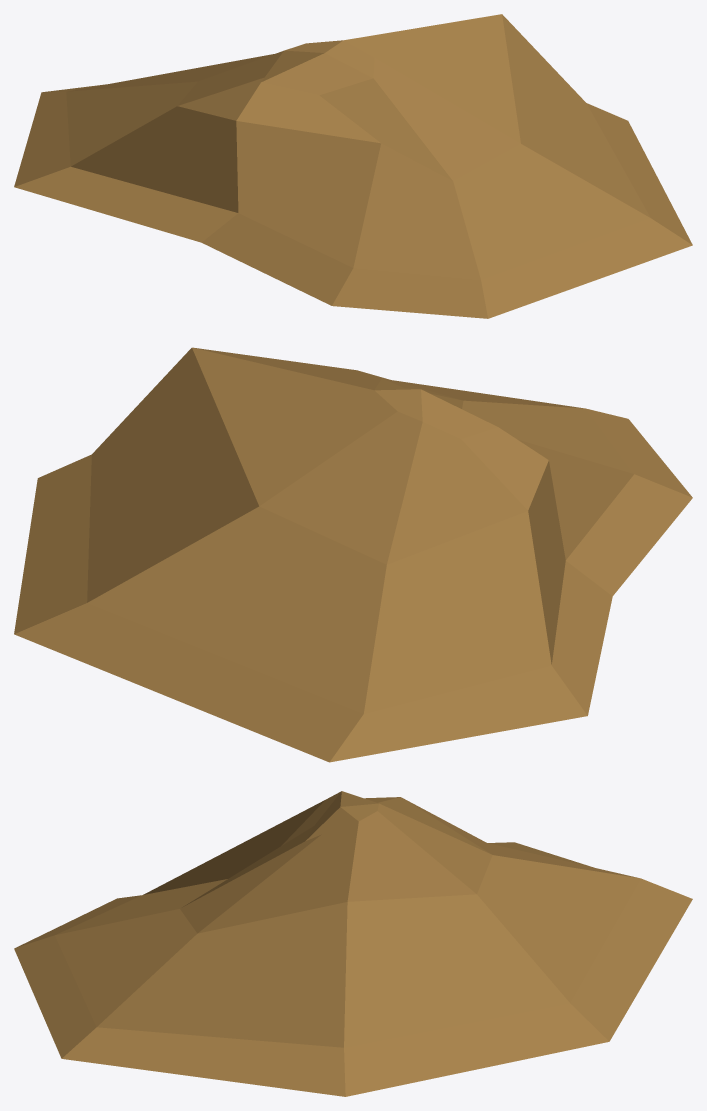
The model's file is MudRocks004.fbx.
3 renders of one model, top to bottom at view 1: azimuth 30°, elevation 25°; view 2: azimuth 150°, elevation 25°; view 3: azimuth 270°, elevation 25°, orthographic. The views are drawn at different scales.
Parts seen in each view (by area): view 1: Cube.026; view 2: Cube.026; view 3: Cube.026.
Boxes of the visible parts, left/top/right/bottom form: Cube.026: left=14, top=14, right=692, bottom=318; Cube.026: left=14, top=347, right=692, bottom=762; Cube.026: left=14, top=791, right=692, bottom=1096.
Bounding box in the file's own units: 182 × 47.6 × 206.
